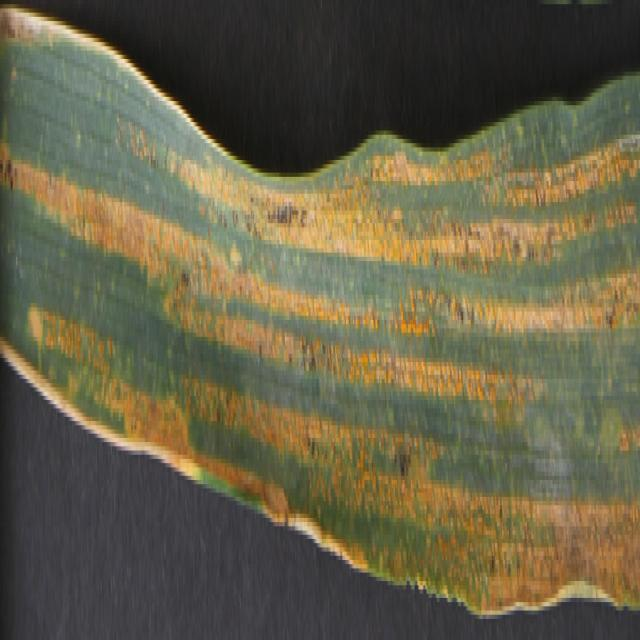leaf rust: (1, 80, 640, 606)
